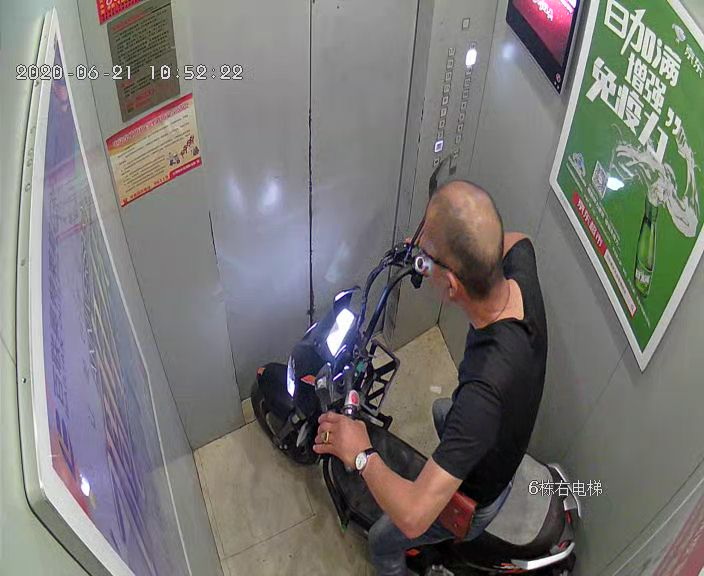Electric-bicycle: (252, 157, 575, 573)
